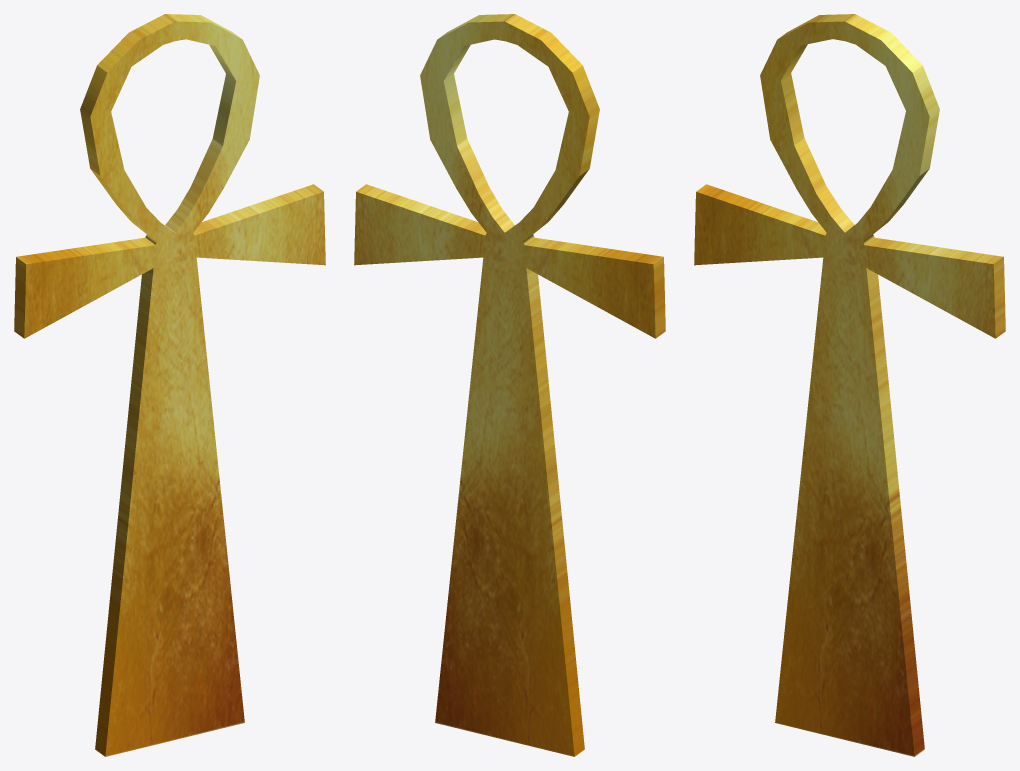
Rendered from treasure1.fbx.
3 views of the same model, side by side, from view 1: azimuth 30°, elevation 25°; view 2: azimuth 150°, elevation 25°; view 3: azimuth 330°, elevation 25° (orthographic).
Visible parts, largest first — view 1: pCube4; view 2: pCube4; view 3: pCube4.
Part boxes in pixels (<box>): pCube4: <box>14,14,325,756</box>; pCube4: <box>354,14,665,756</box>; pCube4: <box>694,14,1005,756</box>.
Bounding box in the file's own units: 0.6603 × 1.5 × 0.0389.
